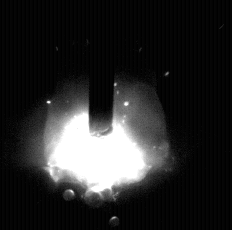arame: (89, 0, 114, 137)
poca: (42, 0, 168, 230)
